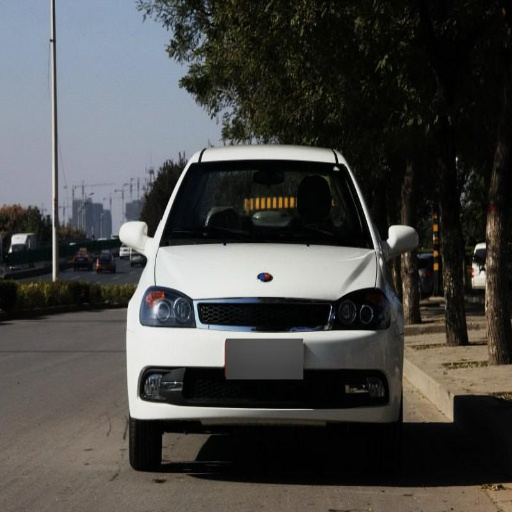front_bumper: (135, 297, 397, 419)
front_right_light: (142, 286, 190, 326)
hood: (156, 243, 378, 300)
